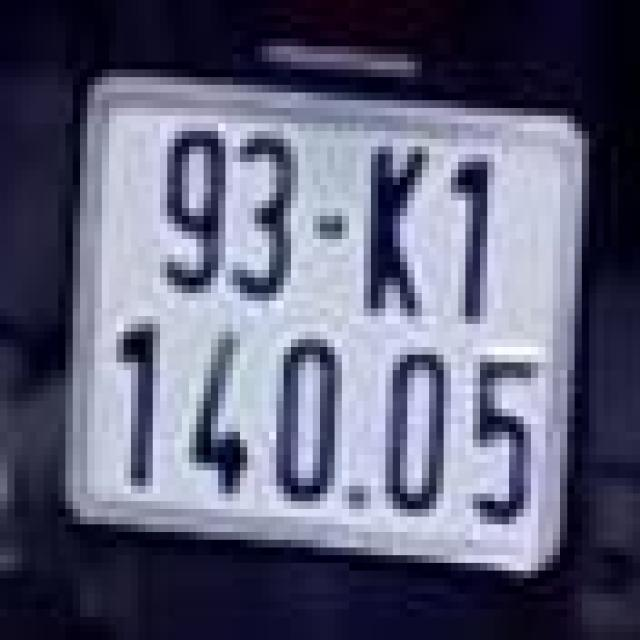0: (367, 336, 455, 528), (269, 320, 335, 505)
1: (447, 142, 520, 336), (102, 304, 167, 512)
3: (226, 120, 306, 304)
4: (182, 301, 254, 501)
5: (466, 351, 524, 536)
9: (145, 131, 233, 293)
K: (356, 127, 444, 328)
